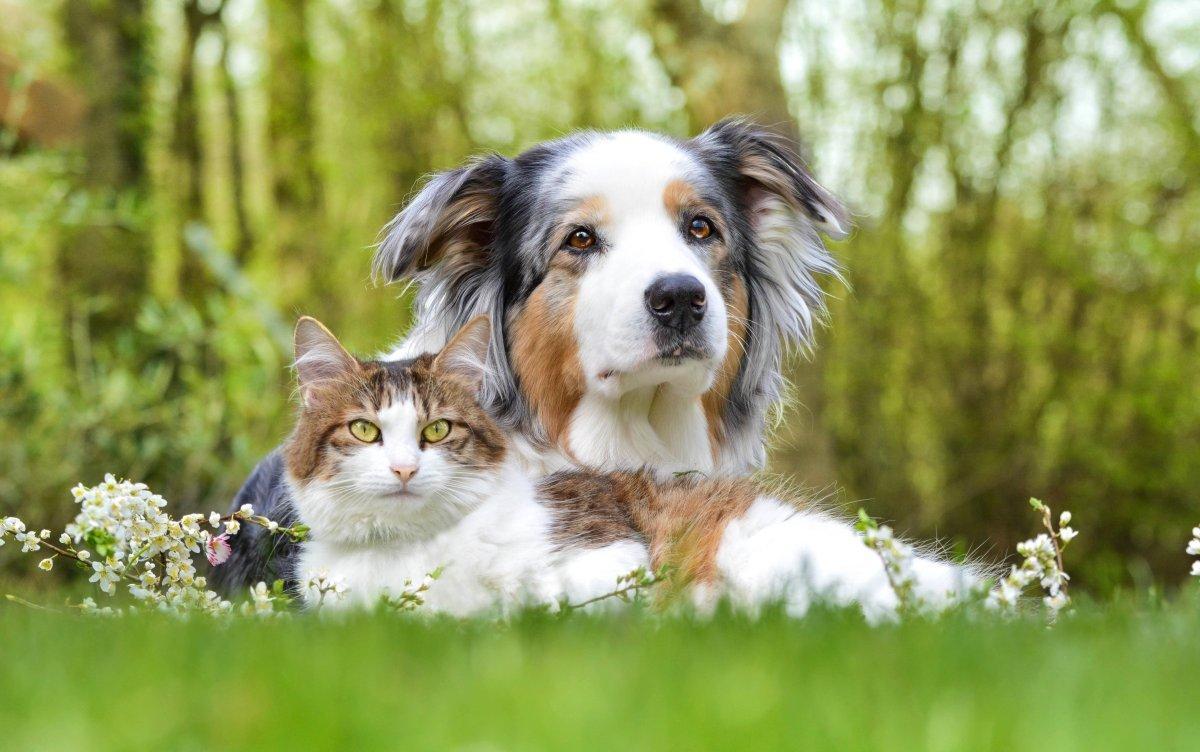animals: (361, 112, 909, 583), (246, 308, 522, 642)
